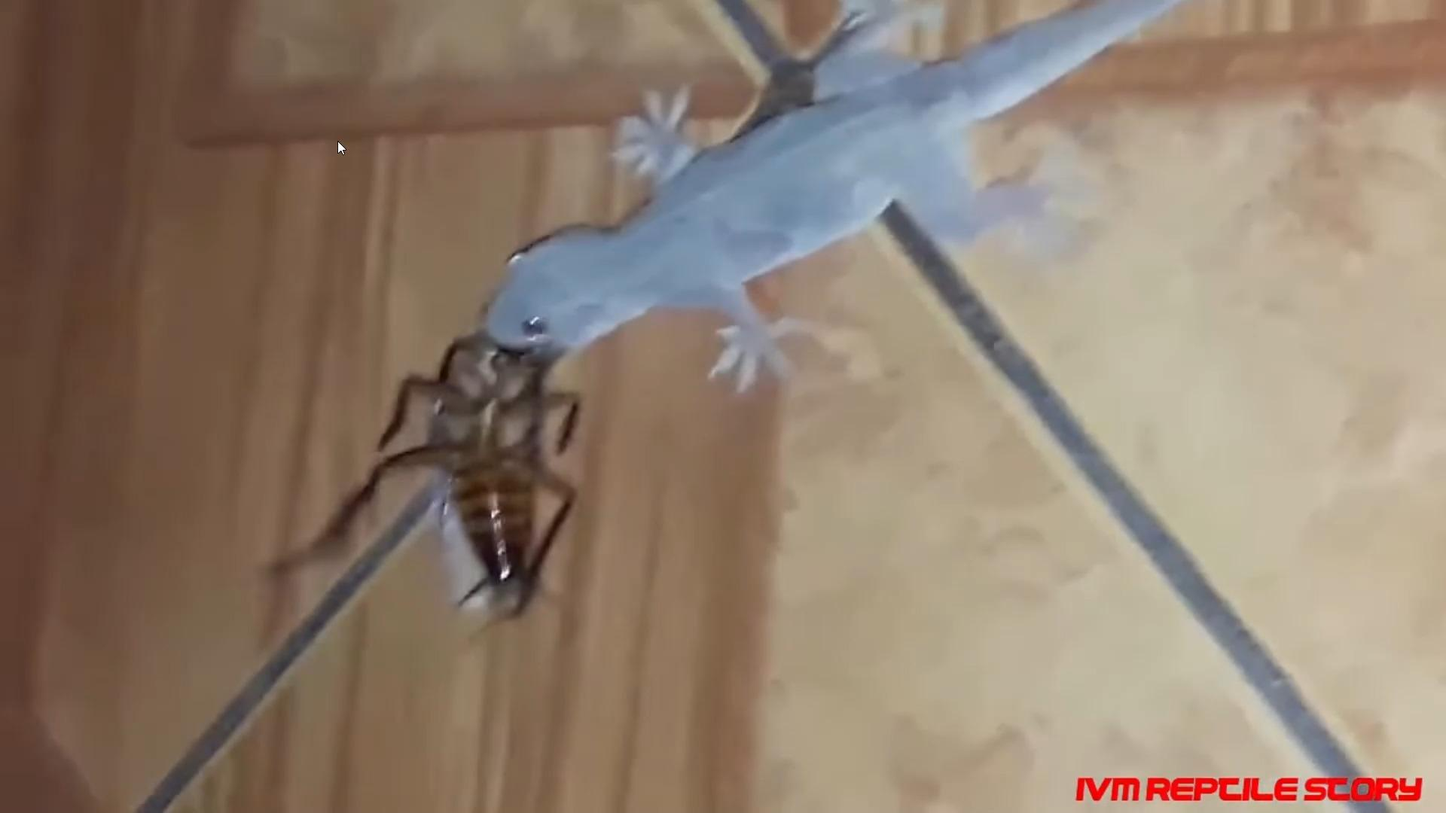cockroach: (350, 331, 554, 599)
lizard: (488, 66, 1095, 379)
